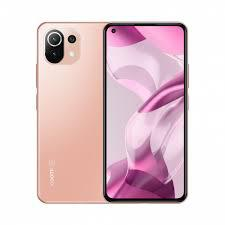Smartphone: (105, 18, 195, 201), (38, 20, 123, 211)
